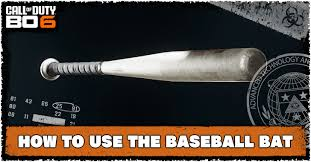baseball bat: (39, 48, 267, 82)
